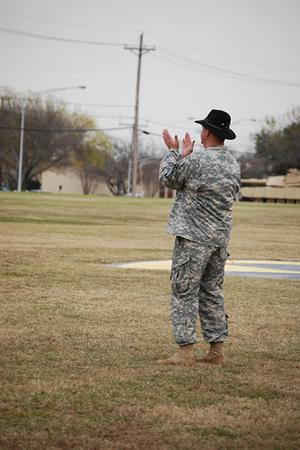person: (158, 109, 246, 365)
